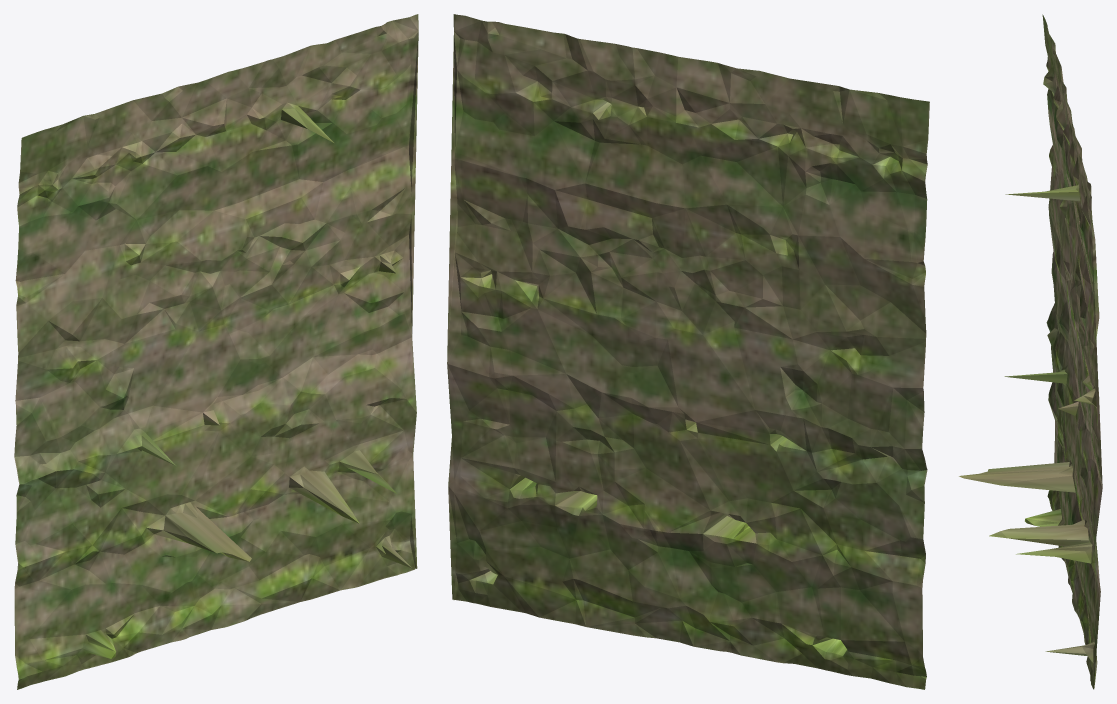
Rendered from map_160_100.obj.
3 views of the same model, side by side, from view 1: azimuth 30°, elevation 25°; view 2: azimuth 150°, elevation 25°; view 3: azimuth 270°, elevation 25° (orthographic). The views are drawn at different scales.
Parts seen in each view (by area): view 1: grp1; view 2: grp1; view 3: grp1.
Boxes of the visible parts, x1=… form: grp1: x1=14, y1=14, x2=418, y2=689; grp1: x1=447, y1=14, x2=929, y2=689; grp1: x1=959, y1=14, x2=1102, y2=689.
Bounding box in the file's own units: 8 × 10 × 2.66.
1 material, 1 textured.
